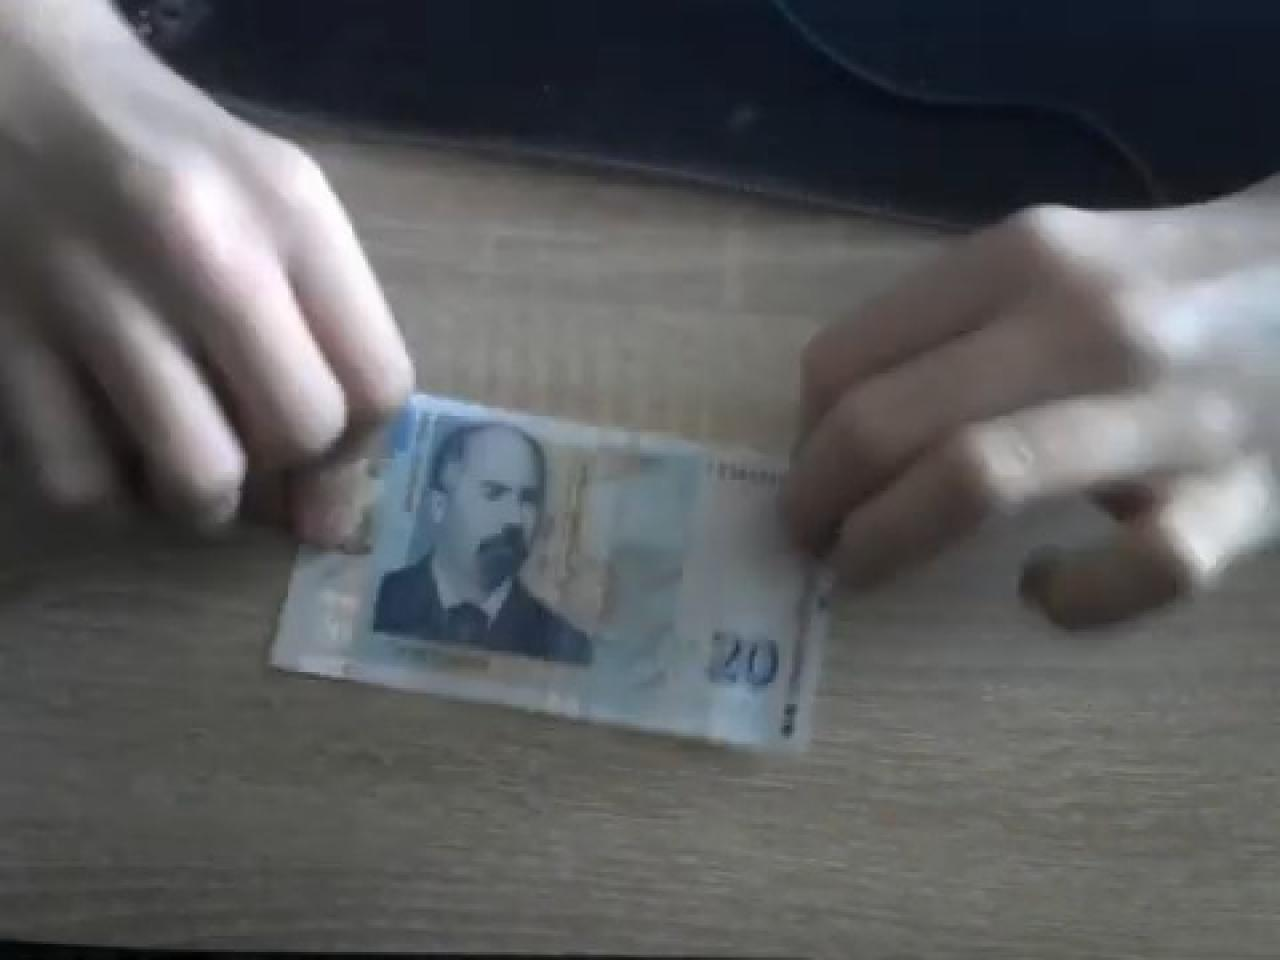20leva: (272, 394, 826, 757)
